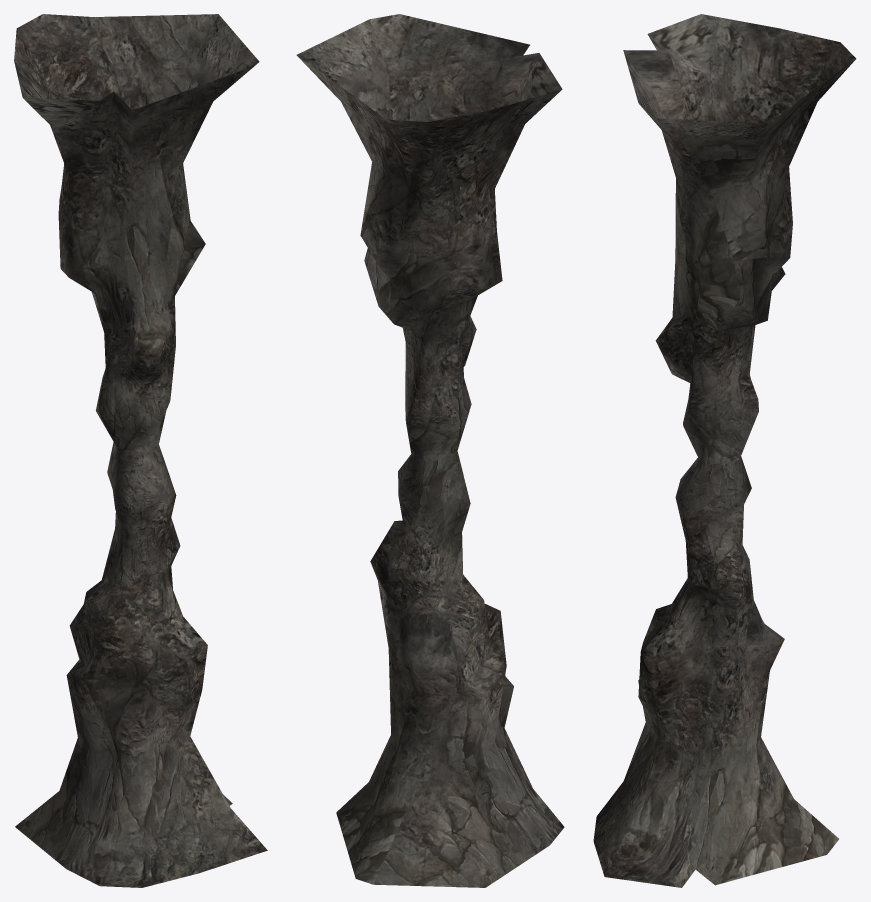
File: DN_Cave_Stone.FBX
3 views of the same model, side by side, from view 1: azimuth 30°, elevation 25°; view 2: azimuth 150°, elevation 25°; view 3: azimuth 270°, elevation 25° (orthographic).
Parts seen in each view (by area): view 1: DN_Cave_Stone; view 2: DN_Cave_Stone; view 3: DN_Cave_Stone.
Boxes of the visible parts, x1,y1,x2,y2 form: DN_Cave_Stone: (14,14,267,887); DN_Cave_Stone: (296,14,564,887); DN_Cave_Stone: (593,14,856,887).
Bounding box in the file's own units: 4.88 × 15.73 × 4.83.
